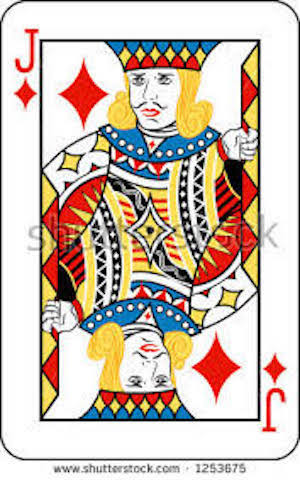JackOfDiamonds: (4, 4, 300, 463)
